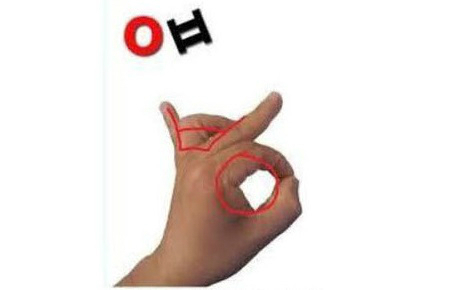ilbe: (141, 90, 302, 282)
